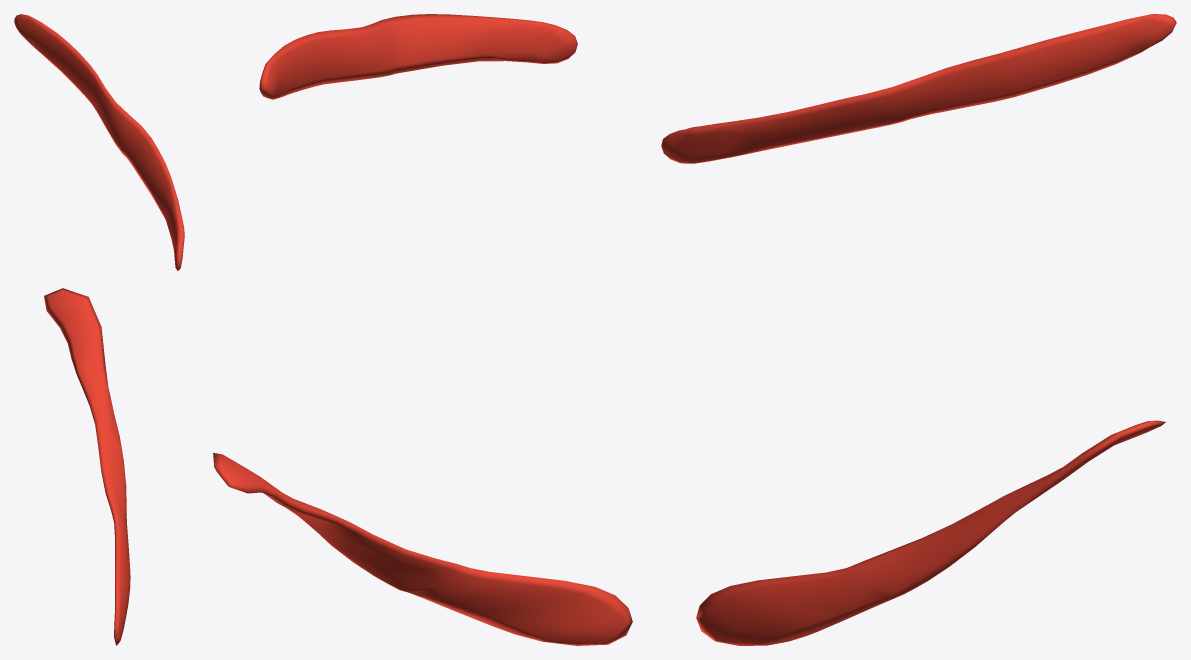
File: Buccinator-_Insertions.l_Generated_Mesh_From_X3D.760.glb
3 renders of one model, left to right at view 1: azimuth 30°, elevation 25°; view 2: azimuth 150°, elevation 25°; view 3: azimuth 270°, elevation 25°, orthographic. The views are drawn at different scales.
Visible parts, largest first — view 1: Buccinator-_Insertions.l_Generated_Mesh_From_X3D.760; view 2: Buccinator-_Insertions.l_Generated_Mesh_From_X3D.760; view 3: Buccinator-_Insertions.l_Generated_Mesh_From_X3D.760.
Boxes of the visible parts, left/top/right/bottom form: Buccinator-_Insertions.l_Generated_Mesh_From_X3D.760: left=14, top=14, right=184, bottom=645; Buccinator-_Insertions.l_Generated_Mesh_From_X3D.760: left=213, top=14, right=632, bottom=645; Buccinator-_Insertions.l_Generated_Mesh_From_X3D.760: left=661, top=14, right=1176, bottom=645.
Size of the model in its own units: 0.00873 by 0.032 by 0.0222.
